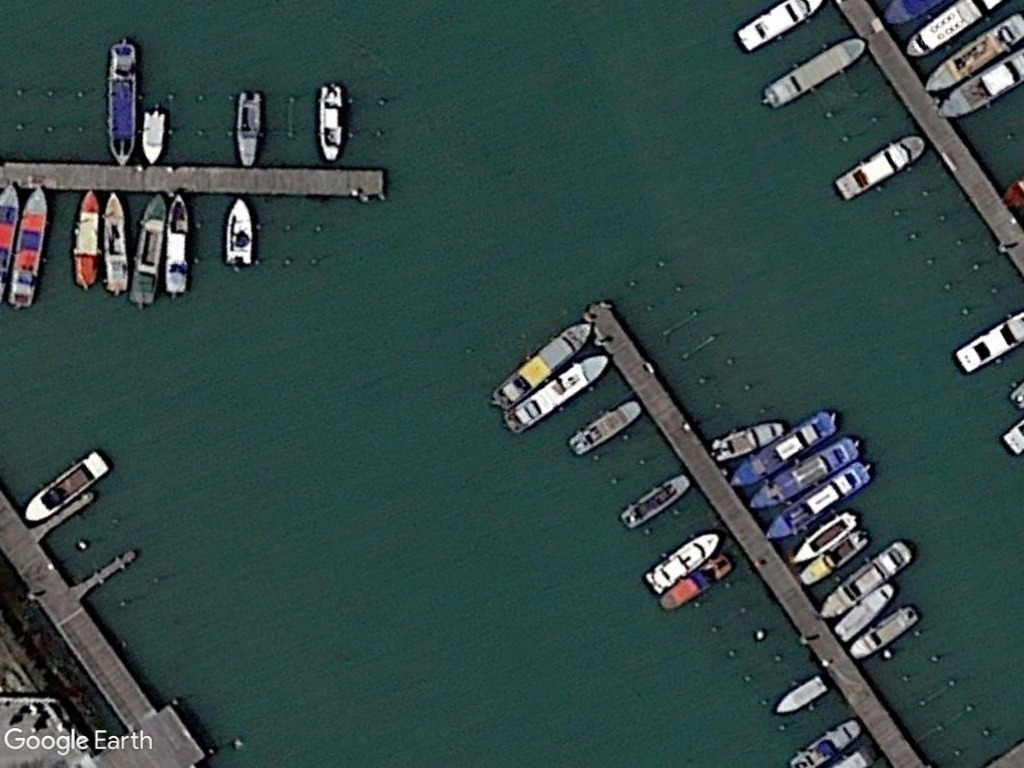boat: (486, 317, 596, 412), (918, 8, 1023, 103), (760, 457, 875, 540), (501, 350, 611, 436), (744, 432, 862, 512), (726, 406, 838, 490), (817, 535, 920, 620), (758, 34, 869, 111), (20, 443, 114, 527), (829, 131, 928, 204), (6, 183, 52, 313), (641, 529, 725, 596), (127, 189, 170, 316), (657, 549, 737, 613), (102, 39, 141, 167), (617, 470, 691, 535), (564, 399, 642, 460), (848, 601, 920, 666), (798, 524, 870, 588), (829, 577, 898, 641), (788, 506, 858, 566), (785, 717, 867, 768), (703, 418, 788, 466), (99, 189, 131, 301), (70, 188, 102, 296), (161, 190, 190, 300), (313, 78, 346, 169), (231, 86, 264, 170), (771, 671, 827, 720), (221, 195, 254, 273), (140, 104, 167, 166)
